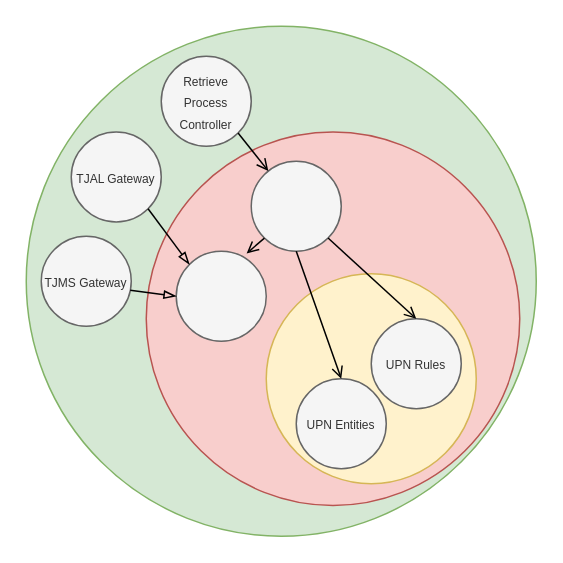
Image size: 563x563. Some labels were removed from this diagram. The shapes that lost their labels are listed below. From the top down, each one's centre as x and y in pixels, then its label:
At (x=295, y=205): "Retrieve Process Use Case".
At (x=220, y=295): "Retrive Process Gateway".
